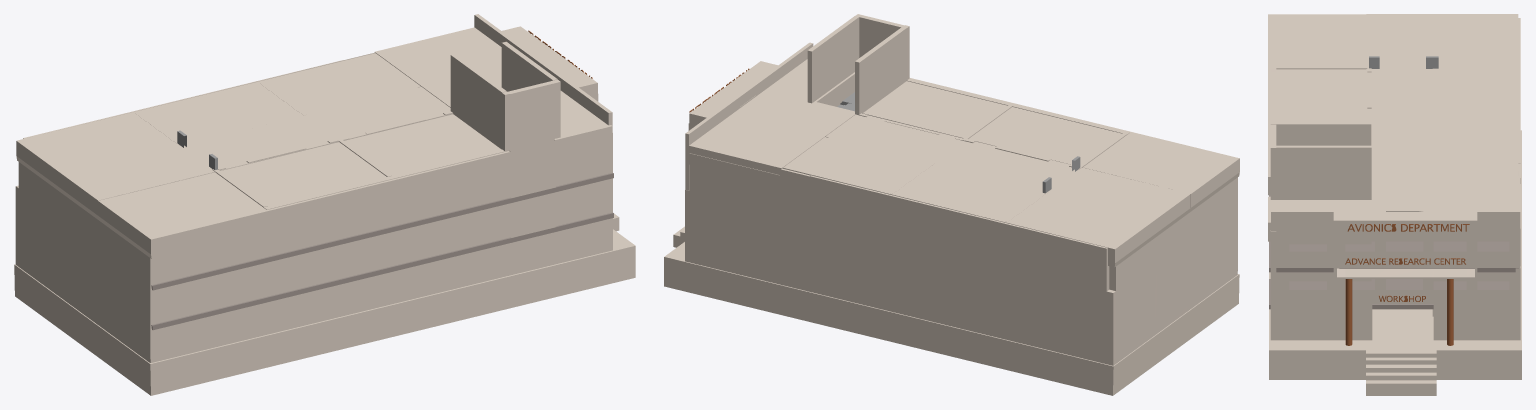
File: AvonicsBuildinModified.fbx
3 views of the same model, side by side, from view 1: azimuth 30°, elevation 25°; view 2: azimuth 150°, elevation 25°; view 3: azimuth 270°, elevation 25° (orthographic). The views are drawn at different scales.
Parts seen in each view (by area): view 1: polySurface397; view 2: polySurface397; view 3: polySurface397.
Part boxes in pixels (box(x1,y1,x2,y2)): polySurface397: box(14, 14, 635, 395); polySurface397: box(664, 14, 1239, 395); polySurface397: box(1268, 14, 1521, 395).
Bounding box in the file's own units: 68.16 × 26.79 × 30.93.
